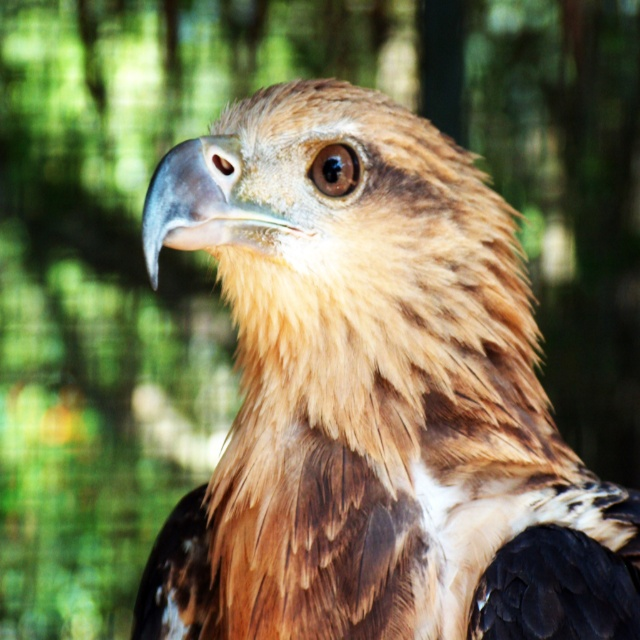Eagle: (130, 79, 640, 639)
